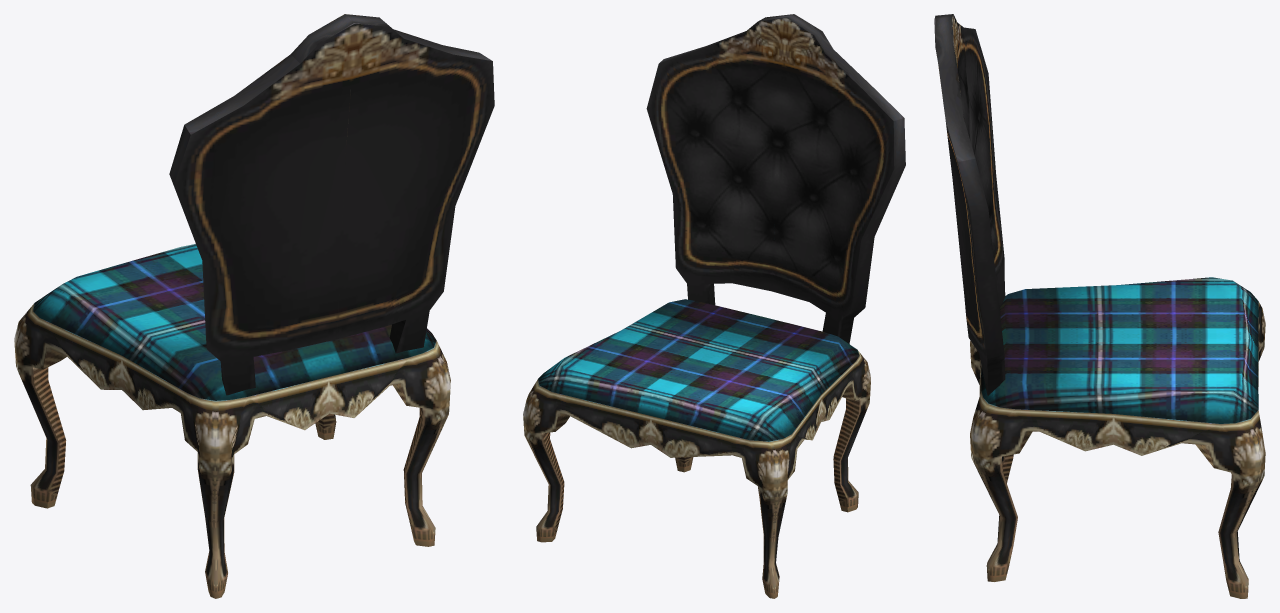
Rendered from furni_0200312_02.FBX.
The picture shows the model from 3 angles, left to right: view 1: azimuth 30°, elevation 25°; view 2: azimuth 150°, elevation 25°; view 3: azimuth 270°, elevation 25°; orthographic projection. The views are drawn at different scales.
Parts seen in each view (by area): view 1: furni_0200312_02; view 2: furni_0200312_02; view 3: furni_0200312_02.
Boxes of the visible parts, x1,y1,x2,y2 form: furni_0200312_02: (14, 14, 494, 598); furni_0200312_02: (523, 14, 905, 598); furni_0200312_02: (934, 14, 1265, 598).
Bounding box in the file's own units: 70.95 × 118 × 68.65.
